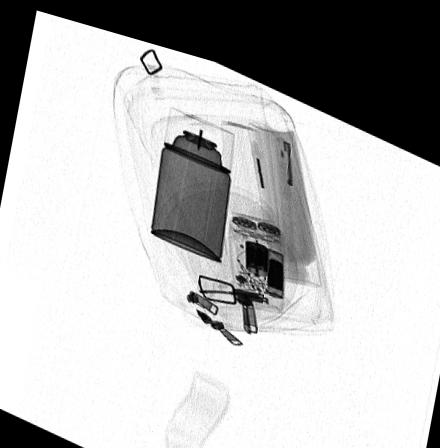Sprayer: (148, 96, 234, 249)
